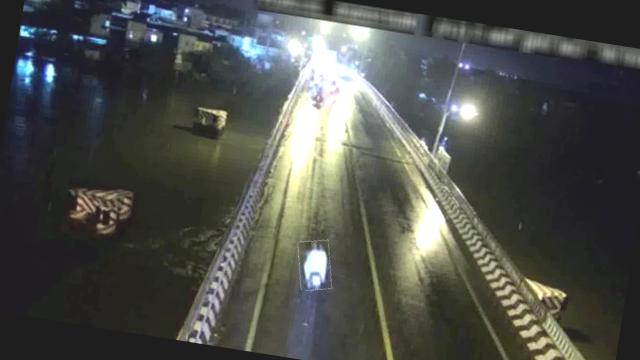Bike: (293, 237, 336, 293)
